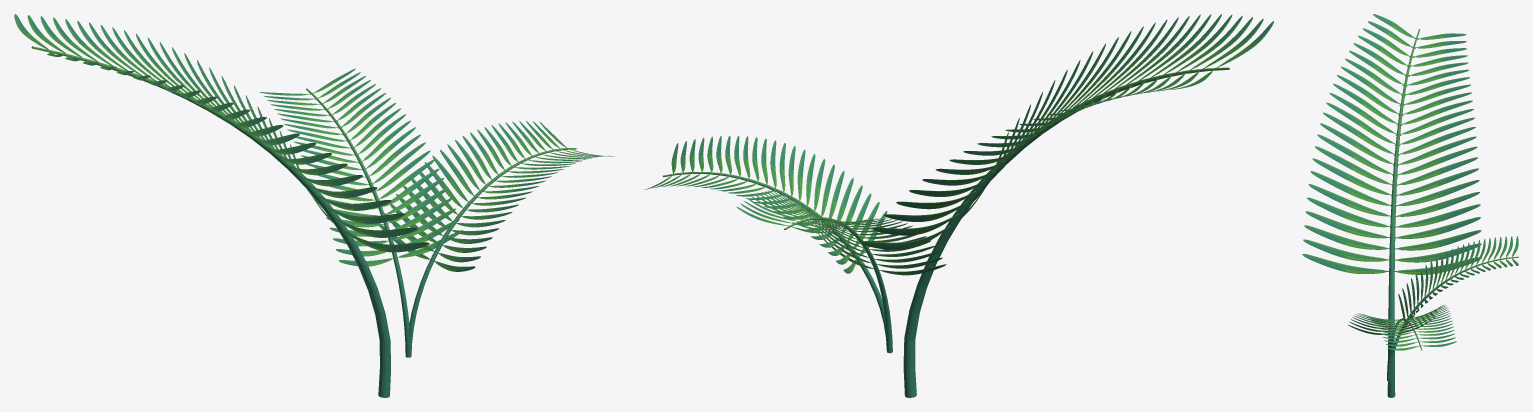
File: zongyushu.fbx
3 renders of one model, left to right at view 1: azimuth 30°, elevation 25°; view 2: azimuth 150°, elevation 25°; view 3: azimuth 270°, elevation 25°, orthographic. The views are drawn at different scales.
Visible parts, largest first — view 1: leaves 1.004, leaves 1.003, leaves 1.005; view 2: leaves 1.004, leaves 1.005, leaves 1.003; view 3: leaves 1.004, leaves 1.003, leaves 1.005.
Boxes of the visible parts, left/top/right/bottom form: leaves 1.004: left=14, top=14, right=429, bottom=397; leaves 1.003: left=259, top=68, right=462, bottom=357; leaves 1.005: left=379, top=121, right=614, bottom=357; leaves 1.004: left=861, top=14, right=1273, bottom=397; leaves 1.005: left=644, top=135, right=887, bottom=352; leaves 1.003: left=736, top=190, right=946, bottom=353; leaves 1.004: left=1302, top=14, right=1481, bottom=397; leaves 1.003: left=1390, top=236, right=1518, bottom=379; leaves 1.005: left=1348, top=305, right=1456, bottom=381.
Bounding box in the file's own units: 3.1 × 2.27 × 1.61.
Materials: 1 (1 with a texture image).
